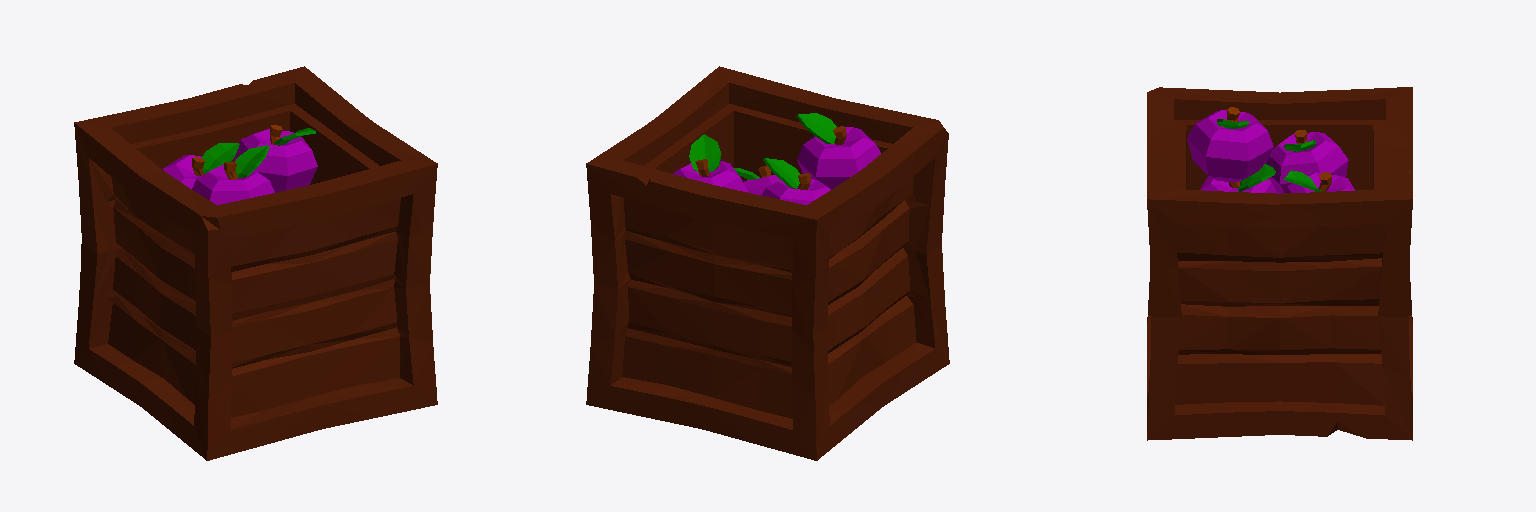
Rendered from crate_broken_berry.obj.
The picture shows the model from 3 angles: view 1: azimuth 30°, elevation 25°; view 2: azimuth 150°, elevation 25°; view 3: azimuth 270°, elevation 25°; orthographic projection.
Visible parts, largest first — view 1: Cube.004, Plane.011; view 2: Cube.004, Plane.011; view 3: Cube.004, Plane.011.
Part boxes in pixels (x1,y1,x2,y2): Cube.004: (74, 66, 437, 460); Plane.011: (162, 125, 317, 204); Cube.004: (586, 66, 949, 460); Plane.011: (673, 113, 880, 204); Cube.004: (1147, 87, 1412, 440); Plane.011: (1187, 107, 1354, 193).
Bounding box in the file's own units: 2 × 2.13 × 2.